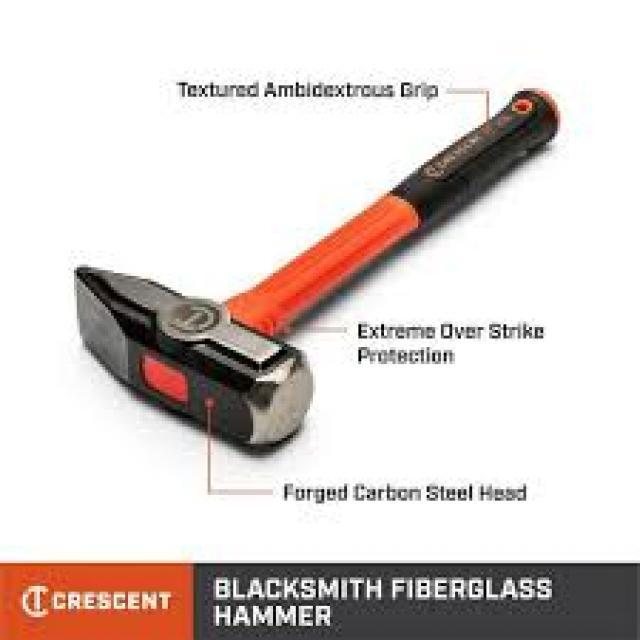hammer: (59, 78, 572, 465)
